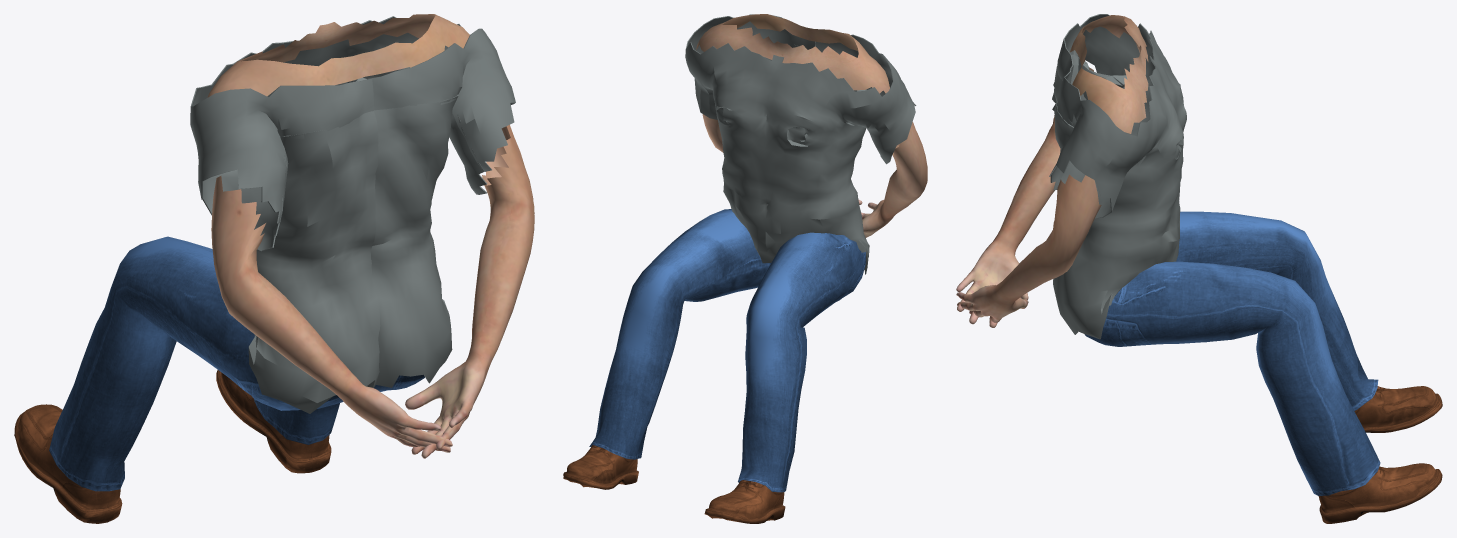
File: player.glb
The picture shows the model from 3 angles, left to right: view 1: azimuth 30°, elevation 25°; view 2: azimuth 150°, elevation 25°; view 3: azimuth 270°, elevation 25°; orthographic projection. The views are drawn at different scales.
Visible parts, largest first — view 1: PlayerTShirt, Body, clothing_jeans_Cloth_jeans, clothing_shoes_Cloth_shoes; view 2: clothing_jeans_Cloth_jeans, PlayerTShirt, Body, clothing_shoes_Cloth_shoes; view 3: clothing_jeans_Cloth_jeans, PlayerTShirt, Body, clothing_shoes_Cloth_shoes.
Part boxes in pixels (x1=…): PlayerTShirt: x1=190, y1=16, x2=515, y2=413; Body: x1=207, y1=14, x2=534, y2=458; clothing_jeans_Cloth_jeans: x1=49, y1=236, x2=424, y2=491; clothing_shoes_Cloth_shoes: x1=14, y1=370, x2=331, y2=523; clothing_jeans_Cloth_jeans: x1=589, y1=209, x2=865, y2=492; PlayerTShirt: x1=685, y1=14, x2=916, y2=274; Body: x1=696, y1=14, x2=927, y2=237; clothing_shoes_Cloth_shoes: x1=563, y1=445, x2=785, y2=523; clothing_jeans_Cloth_jeans: x1=1084, y1=211, x2=1380, y2=495; PlayerTShirt: x1=1049, y1=14, x2=1186, y2=339; Body: x1=956, y1=15, x2=1148, y2=327; clothing_shoes_Cloth_shoes: x1=1318, y1=386, x2=1442, y2=523.
Bounding box in the file's own units: 0.59 × 1.02 × 1.03.
Materials: 4 (3 with a texture image).
